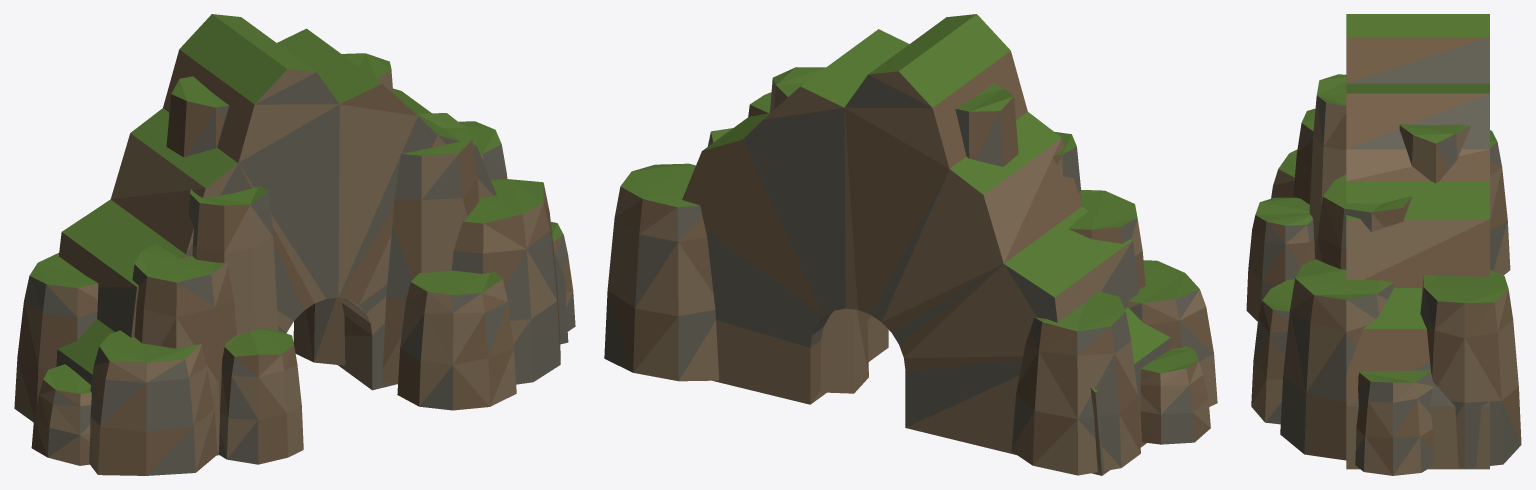
Rendered from WaterfallIsland_Terrain.obj.
3 views of the same model, side by side, from view 1: azimuth 30°, elevation 25°; view 2: azimuth 150°, elevation 25°; view 3: azimuth 270°, elevation 25° (orthographic). The views are drawn at different scales.
Parts seen in each view (by area): view 1: WaterfallIsland_Terrain; view 2: WaterfallIsland_Terrain; view 3: WaterfallIsland_Terrain.
Boxes of the visible parts, box(x1,y1,x2,y2) form: WaterfallIsland_Terrain: box(14, 14, 575, 475); WaterfallIsland_Terrain: box(604, 14, 1217, 475); WaterfallIsland_Terrain: box(1246, 14, 1521, 475).
Bounding box in the file's own units: 164 × 100 × 76.67.
4 materials, 4 textured.
